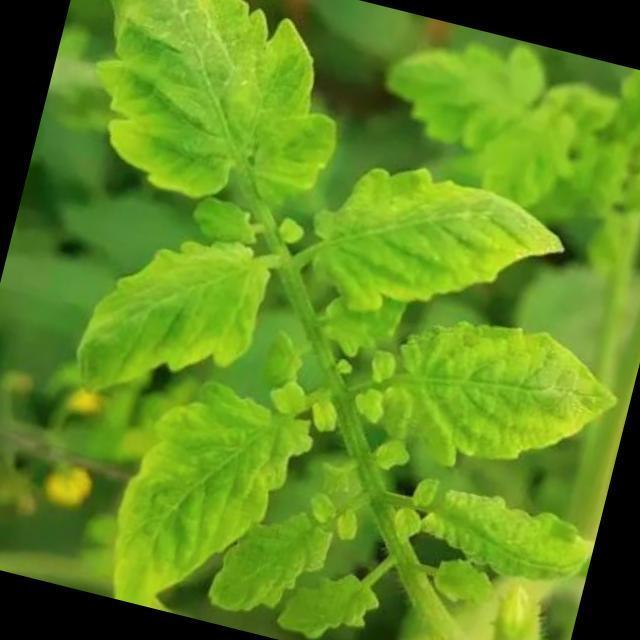Yellow Curl Virus: (62, 0, 378, 231), (68, 359, 318, 635), (364, 290, 628, 496), (294, 150, 570, 346), (54, 203, 280, 427), (419, 470, 602, 588), (198, 482, 340, 634), (276, 553, 381, 640)
